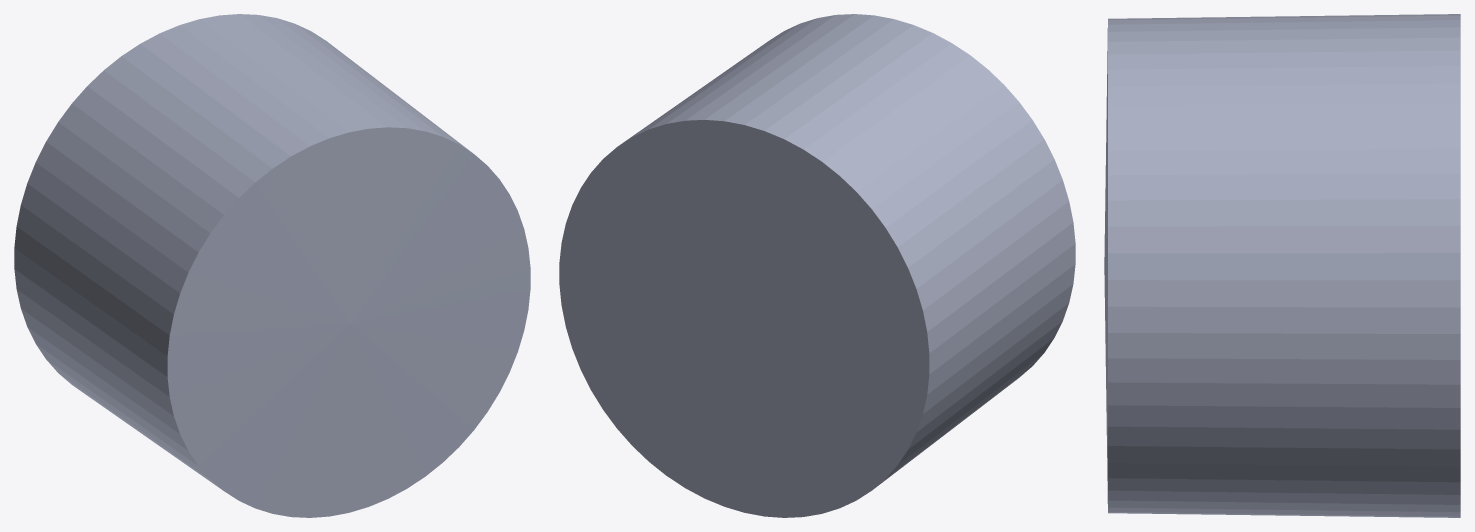
File: lidar.obj
3 renders of one model, left to right at view 1: azimuth 30°, elevation 25°; view 2: azimuth 150°, elevation 25°; view 3: azimuth 270°, elevation 25°, orthographic. The views are drawn at different scales.
Parts seen in each view (by area): view 1: AM3_Velodyne_Detailed_HD_008-mesh; view 2: AM3_Velodyne_Detailed_HD_008-mesh; view 3: AM3_Velodyne_Detailed_HD_008-mesh.
Boxes of the visible parts, bbox=[...] form: AM3_Velodyne_Detailed_HD_008-mesh: bbox=[14, 14, 530, 517]; AM3_Velodyne_Detailed_HD_008-mesh: bbox=[559, 14, 1075, 517]; AM3_Velodyne_Detailed_HD_008-mesh: bbox=[1104, 14, 1460, 517].
Bounding box in the file's own units: 0.1026 × 0.1028 × 0.0727.
